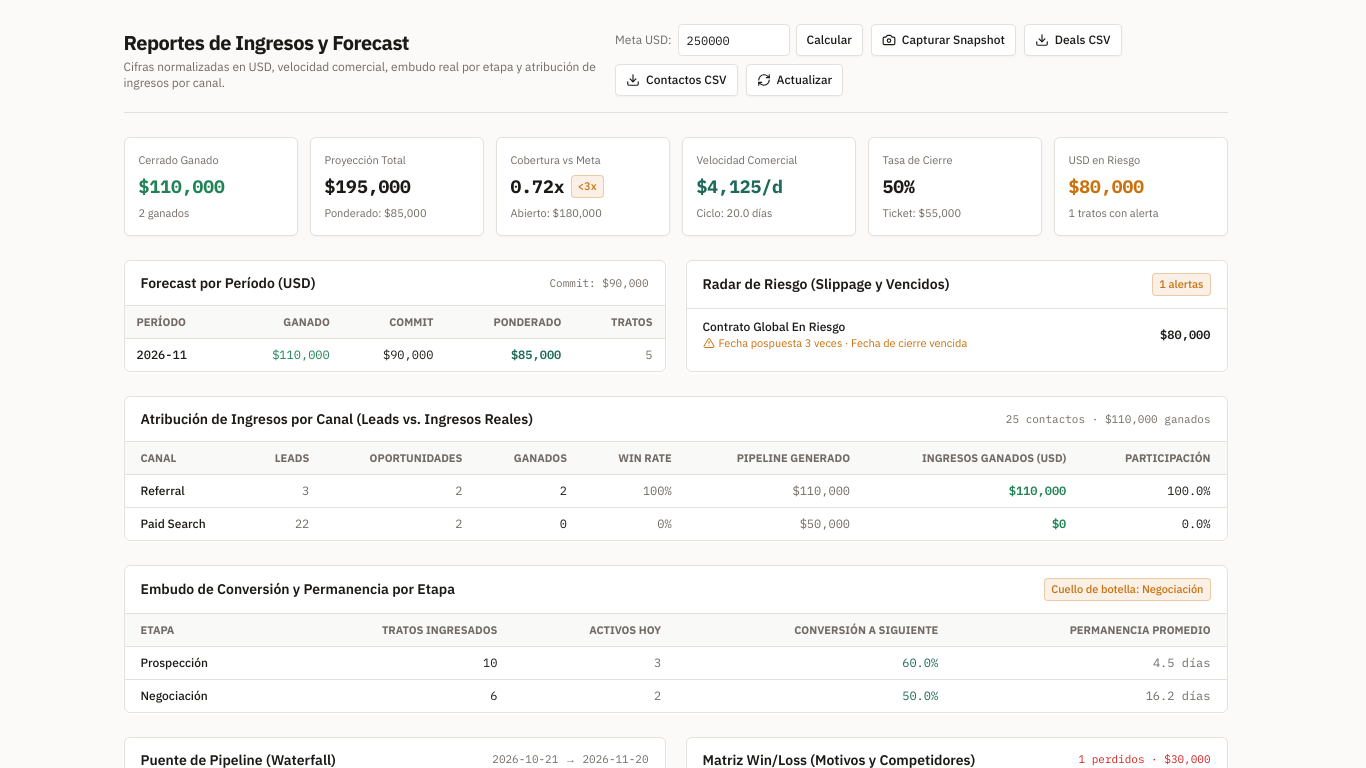
Revenue Reports Dashboard & CSV Import Modal › renders USD forecast KPIs, risk radar, attribution table, funnel bottleneck, quota recalculation, and CSV export
Check: the text "$195,000" is shown, box x1=324 y1=174 x2=411 y2=198
Check: the text "$4,125/d" is shown, box x1=696 y1=174 x2=783 y2=198
# Capture daily snapshot
Click the button "Capturar Snapshot" at (943, 40), box x1=871 y1=24 x2=1016 y2=56
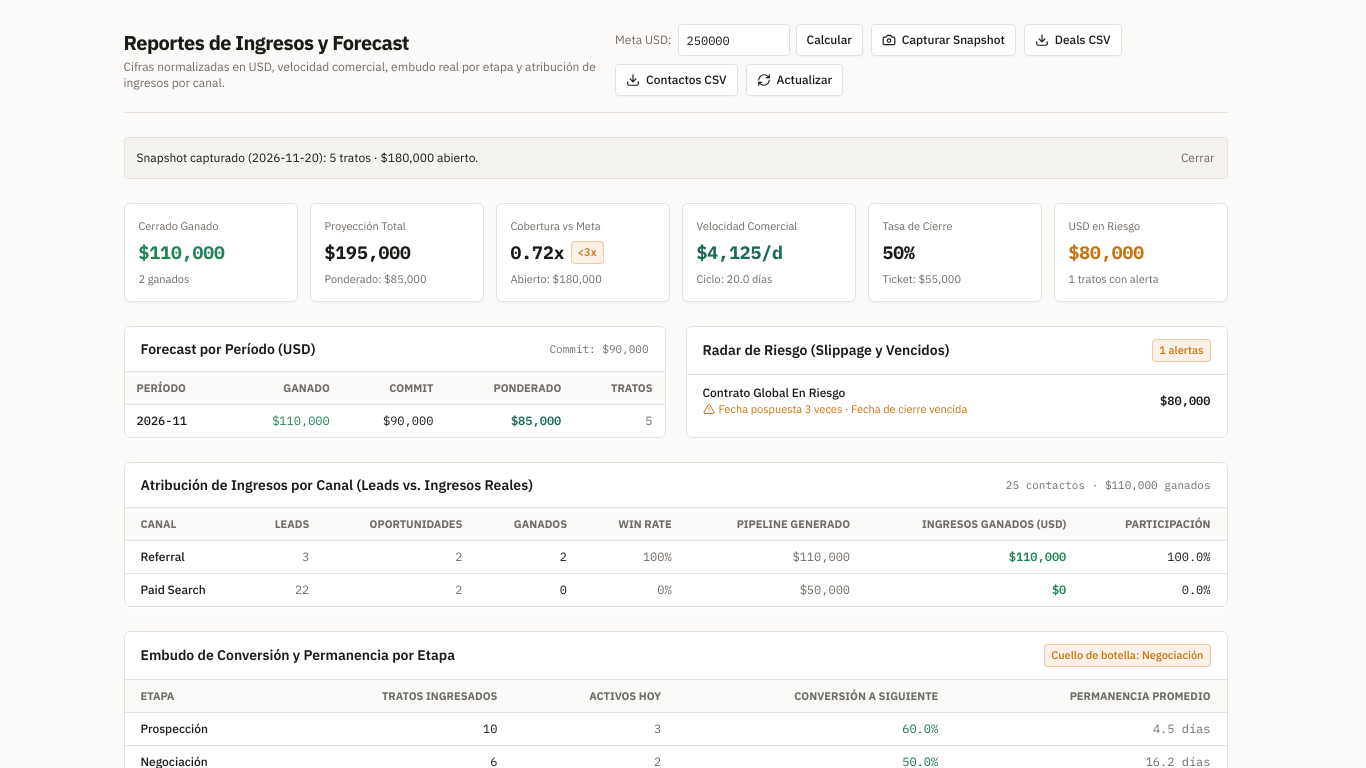
Check: the text "Snapshot capturado" is shown, box x1=136 y1=150 x2=478 y2=165
Replace the text in the number field labelled "Meta USD:" with "50000" at (734, 40), box x1=678 y1=24 x2=790 y2=56
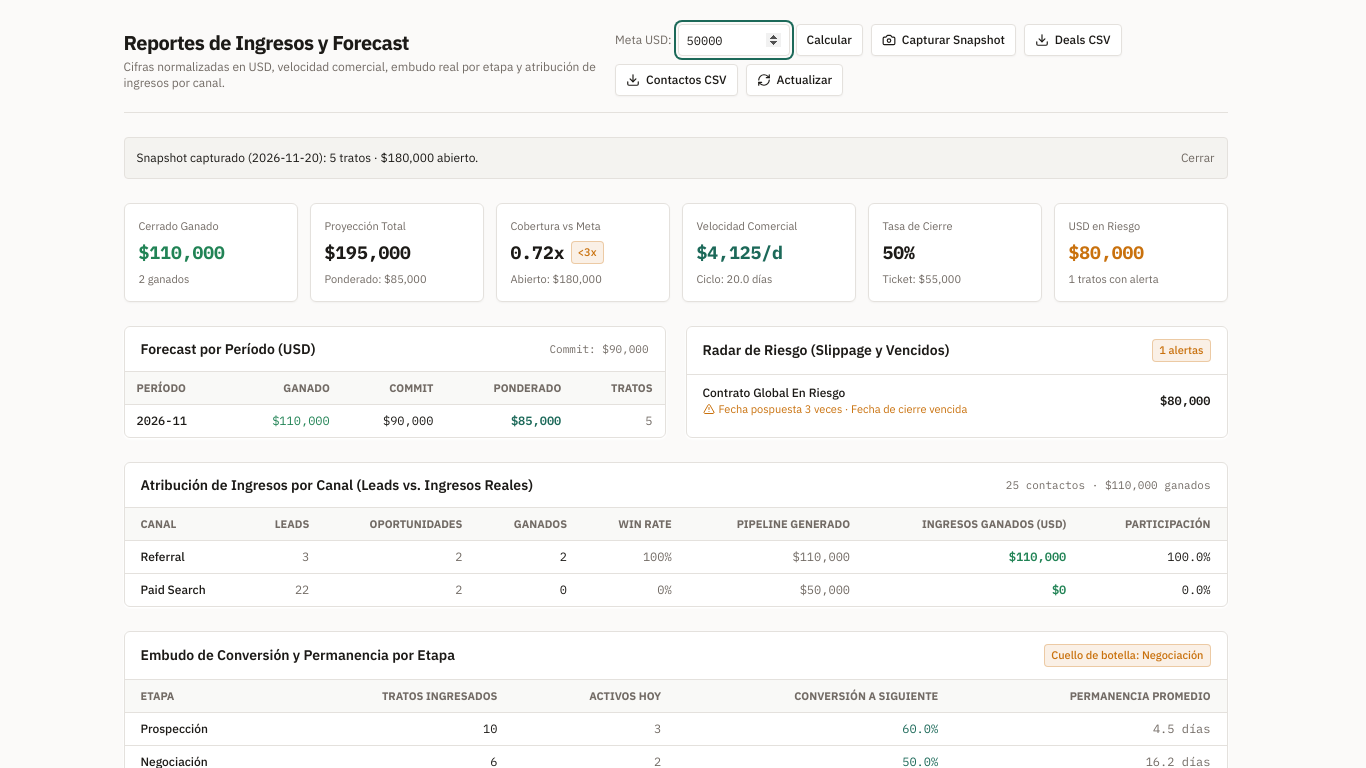
Click the button "Calcular" at (829, 40), box x1=796 y1=24 x2=863 y2=56
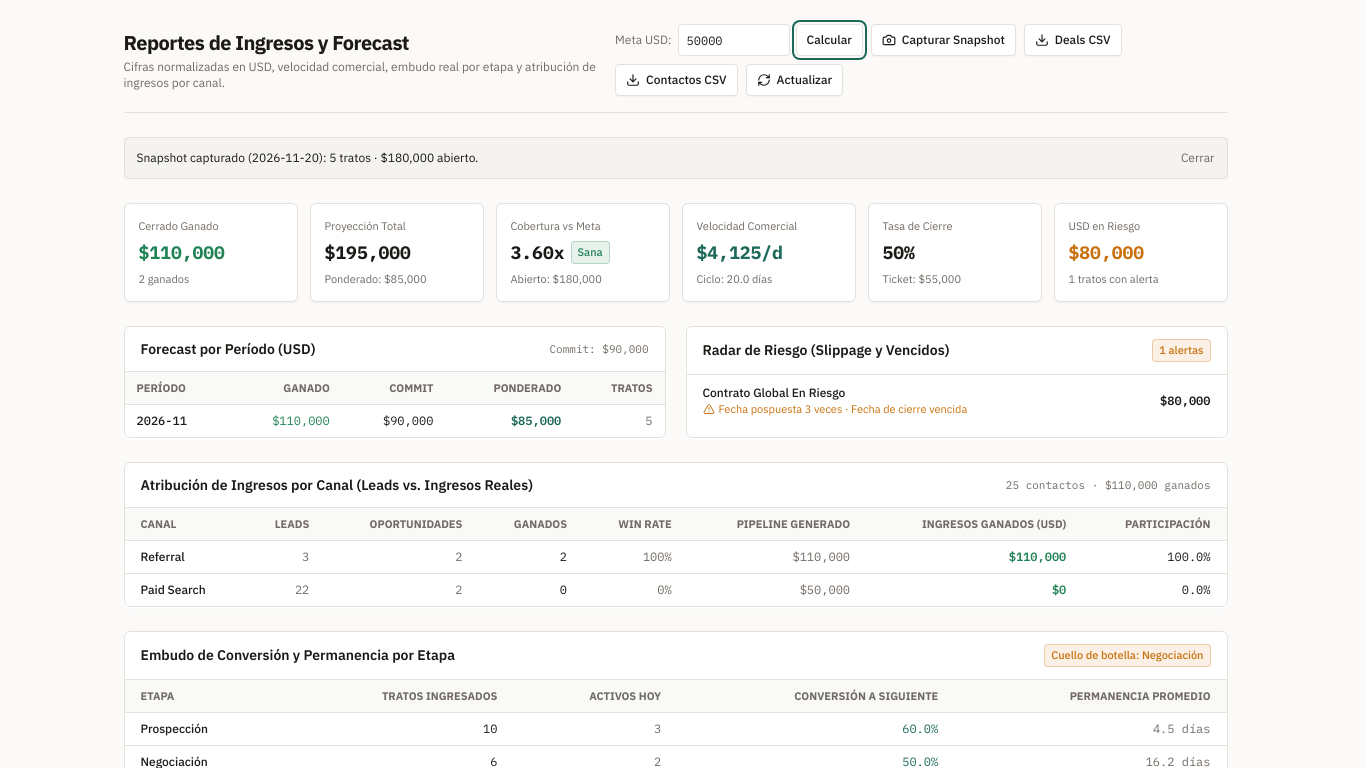
Check: the text "3.60x" is shown, box x1=510 y1=238 x2=564 y2=266
Check: the text "Sana" is shown, box x1=570 y1=241 x2=610 y2=264
# Trigger safe CSV export
Click the button "Deals CSV" at (1073, 40), box x1=1024 y1=24 x2=1122 y2=56
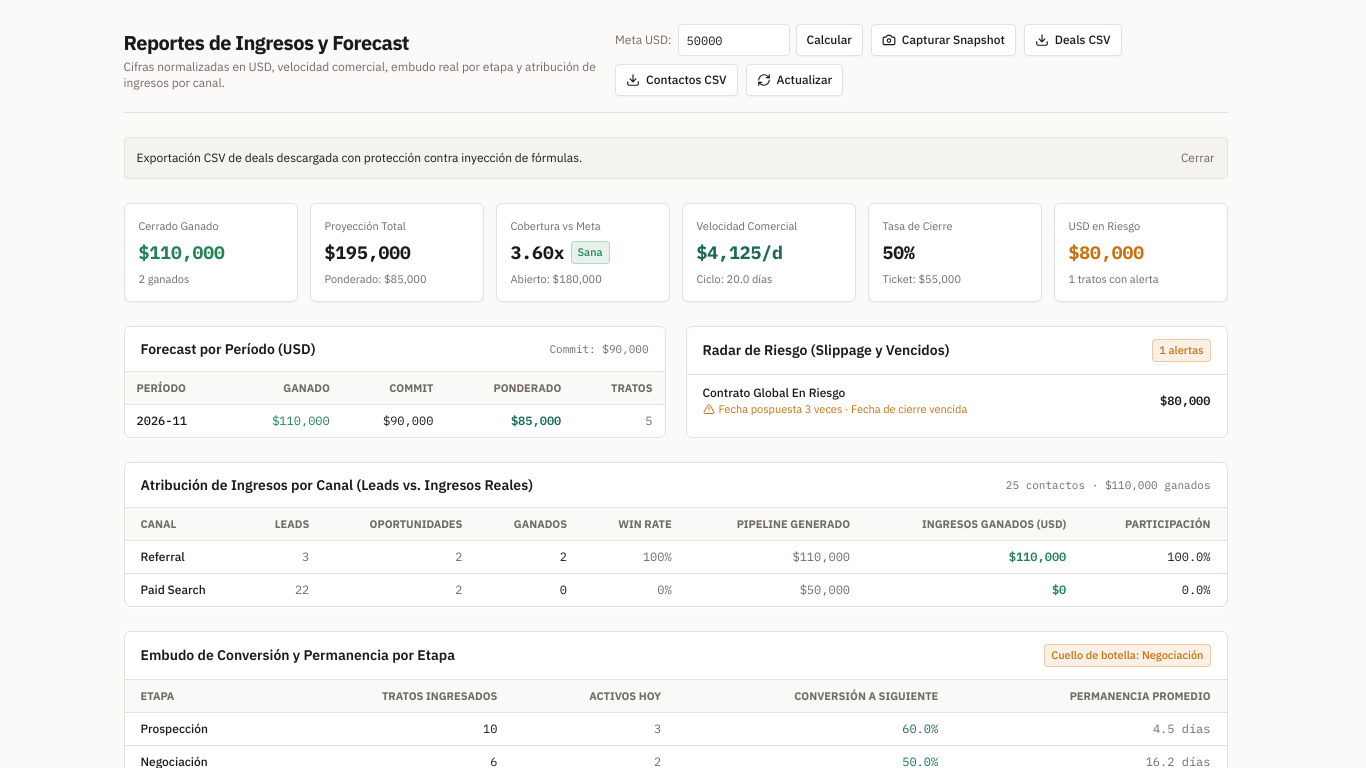
Check: the text "Exportación CSV de deals descargada" is shown, box x1=136 y1=150 x2=582 y2=165
